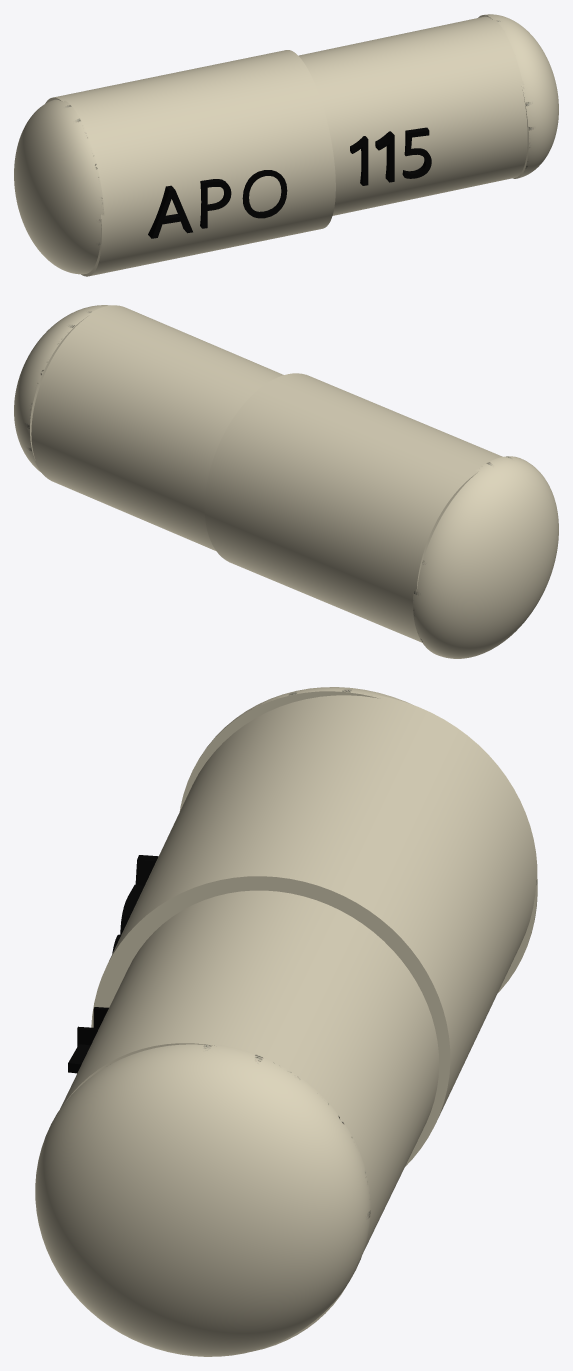
File: Hytrin.fbx
3 renders of one model, top to bottom at view 1: azimuth 30°, elevation 25°; view 2: azimuth 150°, elevation 25°; view 3: azimuth 270°, elevation 25°, orthographic. The views are drawn at different scales.
Visible parts, largest first — view 1: node_id75, node_id76, node_id253, node_id78, node_id262, node_id295, node_id276, node_id322, node_id317, node_id304; view 2: node_id75, node_id76, node_id253, node_id78; view 3: node_id75, node_id78, node_id76, node_id253.
Part boxes in pixels (box(x1,y1,x2,y2)): node_id75: box(45, 50, 335, 276); node_id76: box(298, 16, 527, 215); node_id253: box(14, 99, 104, 274); node_id78: box(478, 14, 558, 178); node_id262: box(148, 185, 192, 238); node_id295: box(242, 170, 287, 218); node_id276: box(200, 179, 231, 228); node_id322: box(402, 127, 431, 178); node_id317: box(375, 131, 394, 182); node_id304: box(350, 136, 368, 185); node_id75: box(204, 373, 502, 642); node_id76: box(31, 305, 283, 550); node_id253: box(413, 456, 558, 658); node_id78: box(14, 305, 110, 472); node_id75: box(91, 695, 537, 1166); node_id78: box(35, 1044, 370, 1356); node_id76: box(60, 890, 439, 1350); node_id253: box(179, 687, 537, 992).
Bounding box in the file's own units: 1.25 × 0.45 × 0.5623.
Materials: 9 (4 with a texture image).
